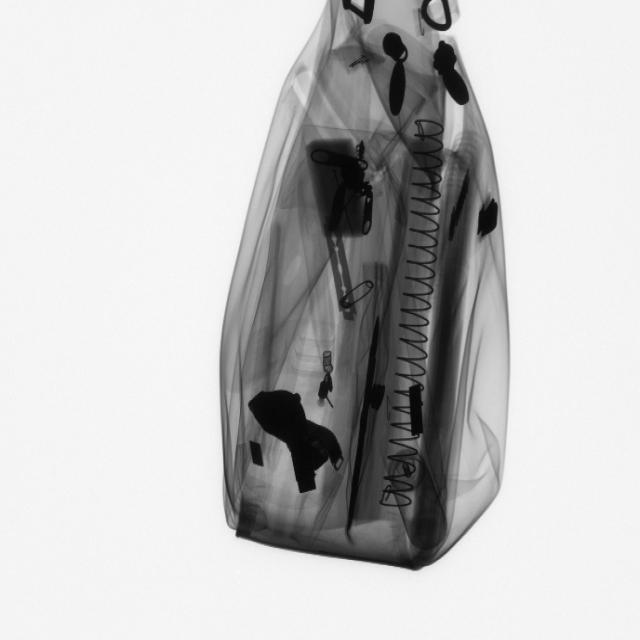BLADE: (322, 217, 361, 313)
